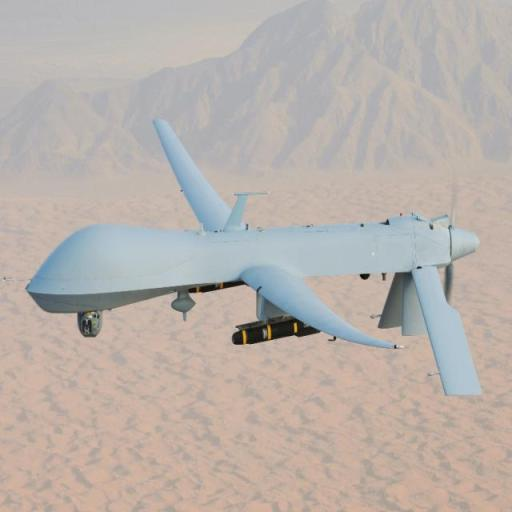uav: (18, 114, 488, 402)
